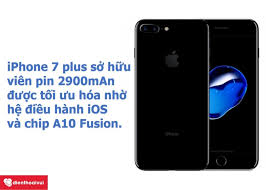iphone: (135, 18, 210, 172)
iphone7: (133, 16, 260, 173)
